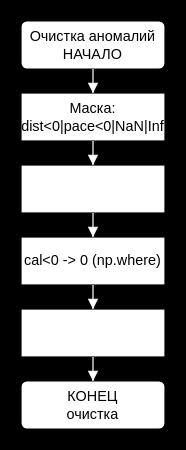
Some shapes in this 186 by 450 pixel diagram are drawn without their labels. Each missing label, with the box of its shape:
cleaned = data[~mask]: (20, 164, 165, 213)
clip pace по [q10, q90]: (20, 308, 165, 357)
